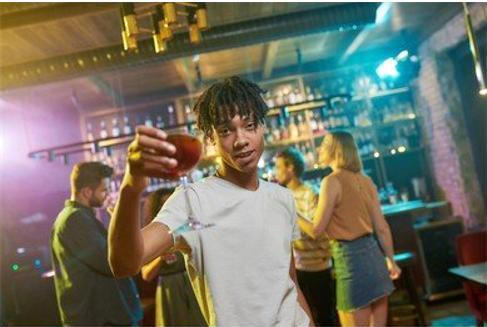Drunk: (214, 109, 267, 172)
